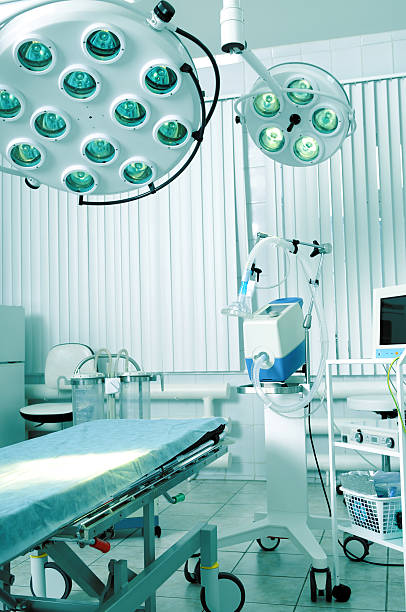bedside_monitor: (367, 282, 406, 357)
breathing_tube: (228, 232, 325, 419)
chair: (22, 341, 93, 428)
operating_bed: (1, 408, 248, 612)
surgical_light: (1, 1, 218, 206), (232, 48, 356, 176)
utility_cart: (317, 341, 406, 575)
ventilator: (219, 214, 336, 411)
